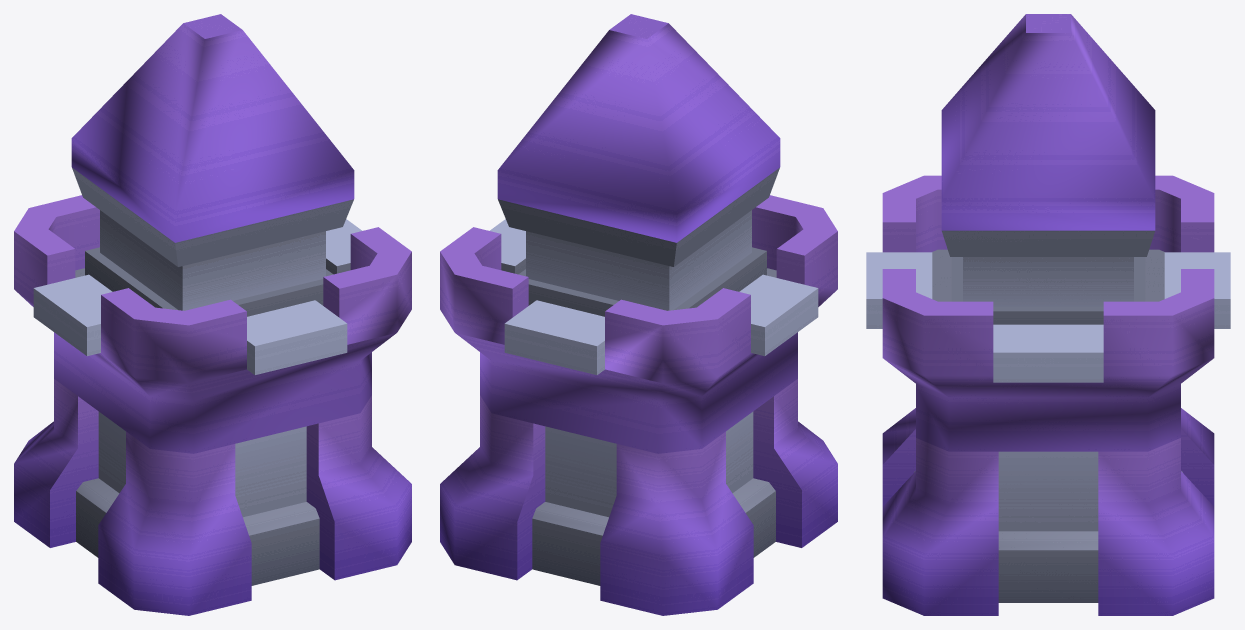
The model's file is tower-square-build-e.glb.
3 renders of one model, left to right at view 1: azimuth 30°, elevation 25°; view 2: azimuth 150°, elevation 25°; view 3: azimuth 270°, elevation 25°, orthographic. The views are drawn at different scales.
Visible parts, largest first — view 1: tower-square-build-e; view 2: tower-square-build-e; view 3: tower-square-build-e.
Part boxes in pixels (<box>): tower-square-build-e: <box>14,14,411,615</box>; tower-square-build-e: <box>440,14,837,615</box>; tower-square-build-e: <box>866,14,1230,615</box>.
Bounding box in the file's own units: 1.1 × 1.74 × 1.1.
Materials: 1 (1 with a texture image).
